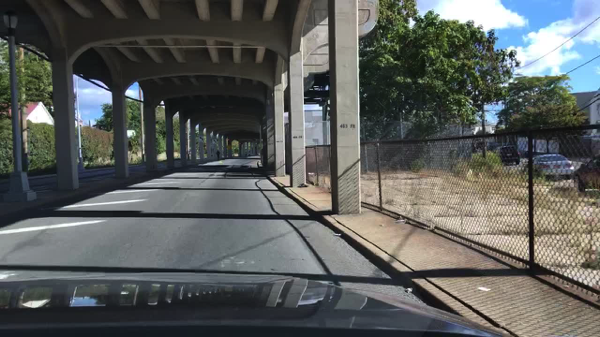car: (532, 154, 572, 179), (572, 154, 599, 191), (499, 146, 520, 165)
person: (216, 149, 221, 161)
